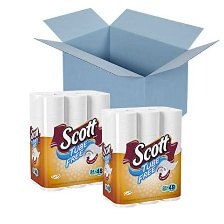book: (28, 0, 224, 119)
tissue: (94, 100, 187, 211), (24, 84, 116, 195)
